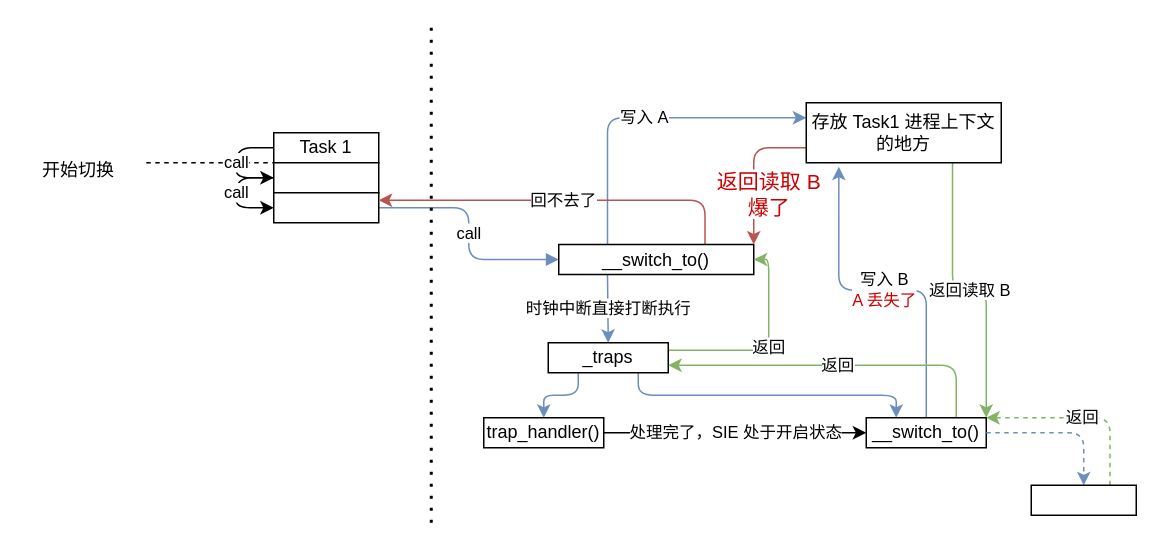
Some shapes in this 1163 by 551 pixel diagram are drawn without their labels. The shapes that lost their labels are listed below. From the top down, each one's centre as x and y in pixels, then its label:
point (325, 177): schedule()
point (325, 207): switch_to()
point (1083, 499): Task2
